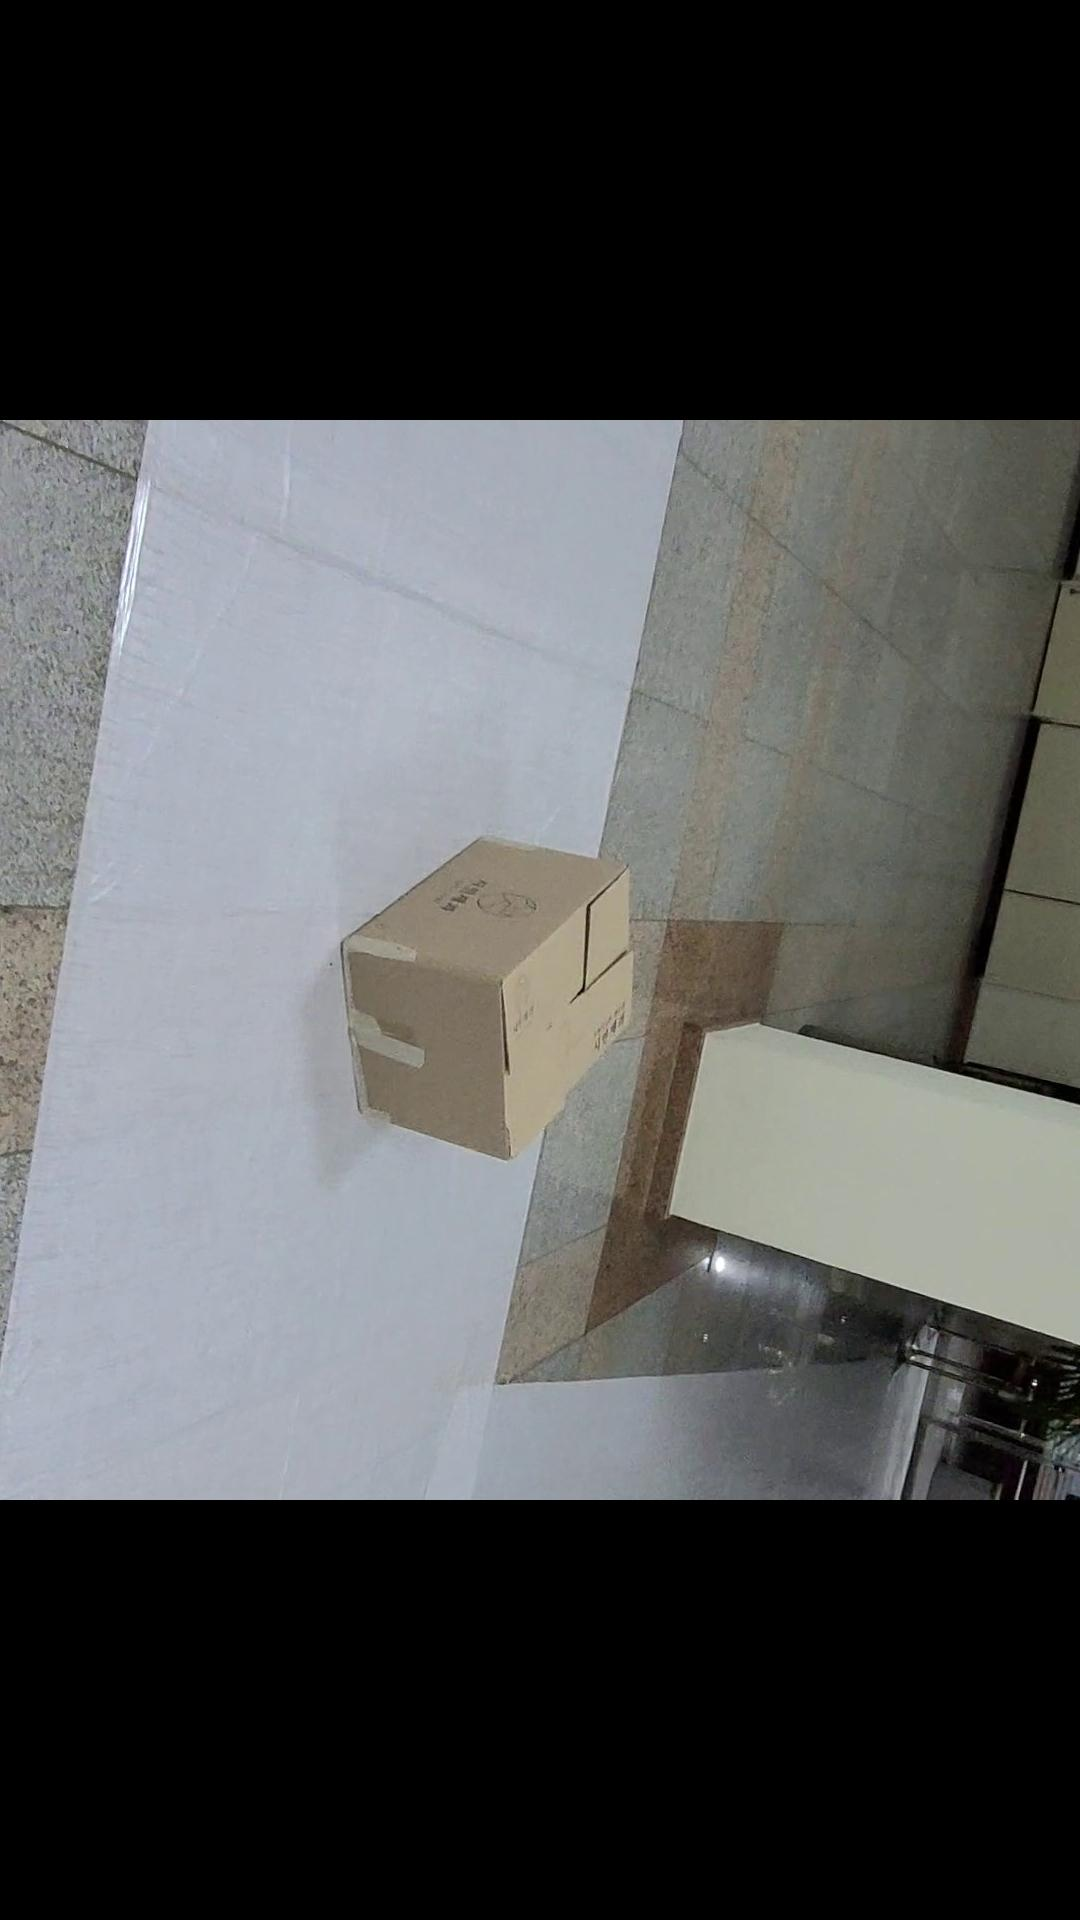Box: (295, 811, 651, 1187)
